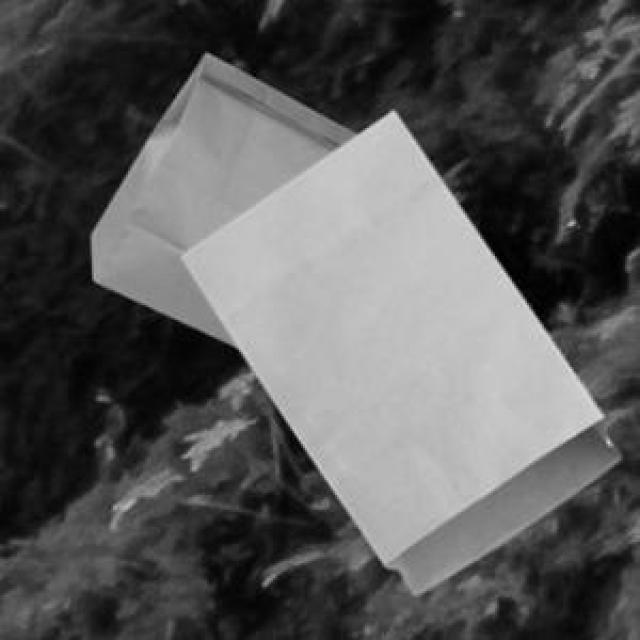paper: (177, 107, 617, 591), (88, 49, 352, 344)
